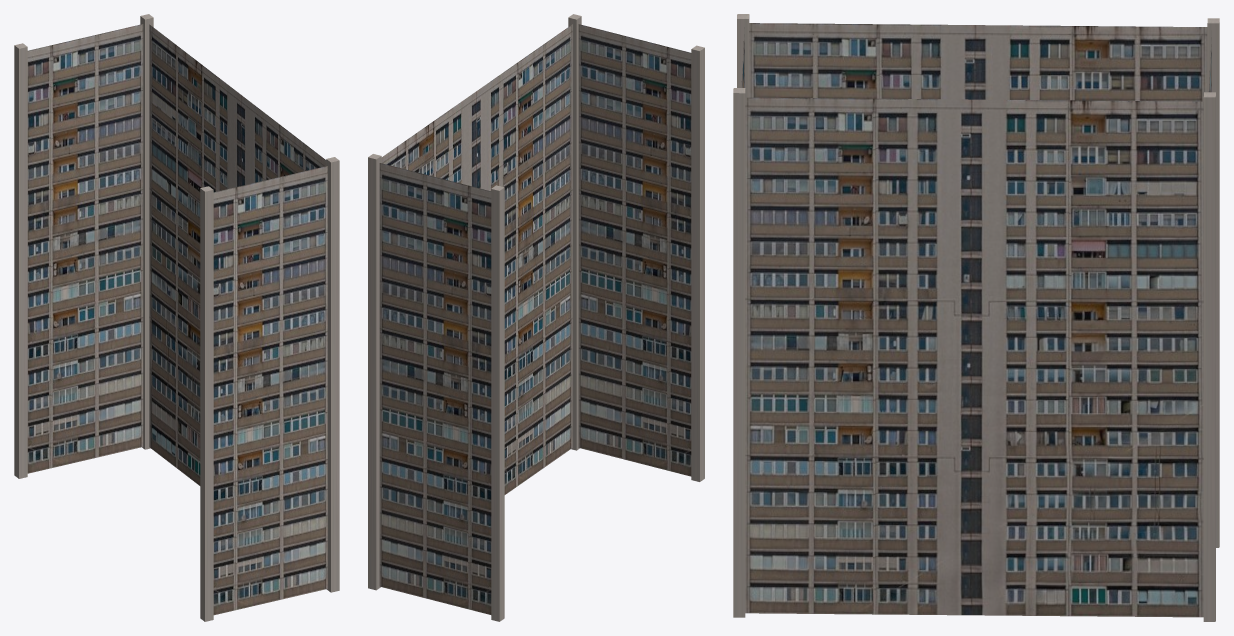
File: tower_16_slab.glb
3 views of the same model, side by side, from view 1: azimuth 30°, elevation 25°; view 2: azimuth 150°, elevation 25°; view 3: azimuth 270°, elevation 25° (orthographic). The views are drawn at different scales.
Parts seen in each view (by area): view 1: tower_16_slab; view 2: tower_16_slab; view 3: tower_16_slab.
Part boxes in pixels (box(x1,y1,x2,y2)): tower_16_slab: box(14, 14, 339, 621); tower_16_slab: box(368, 14, 704, 621); tower_16_slab: box(733, 14, 1219, 621).
Size of the model in its own units: 16.49 by 48.38 by 40.66.
Materials: 1 (1 with a texture image).
